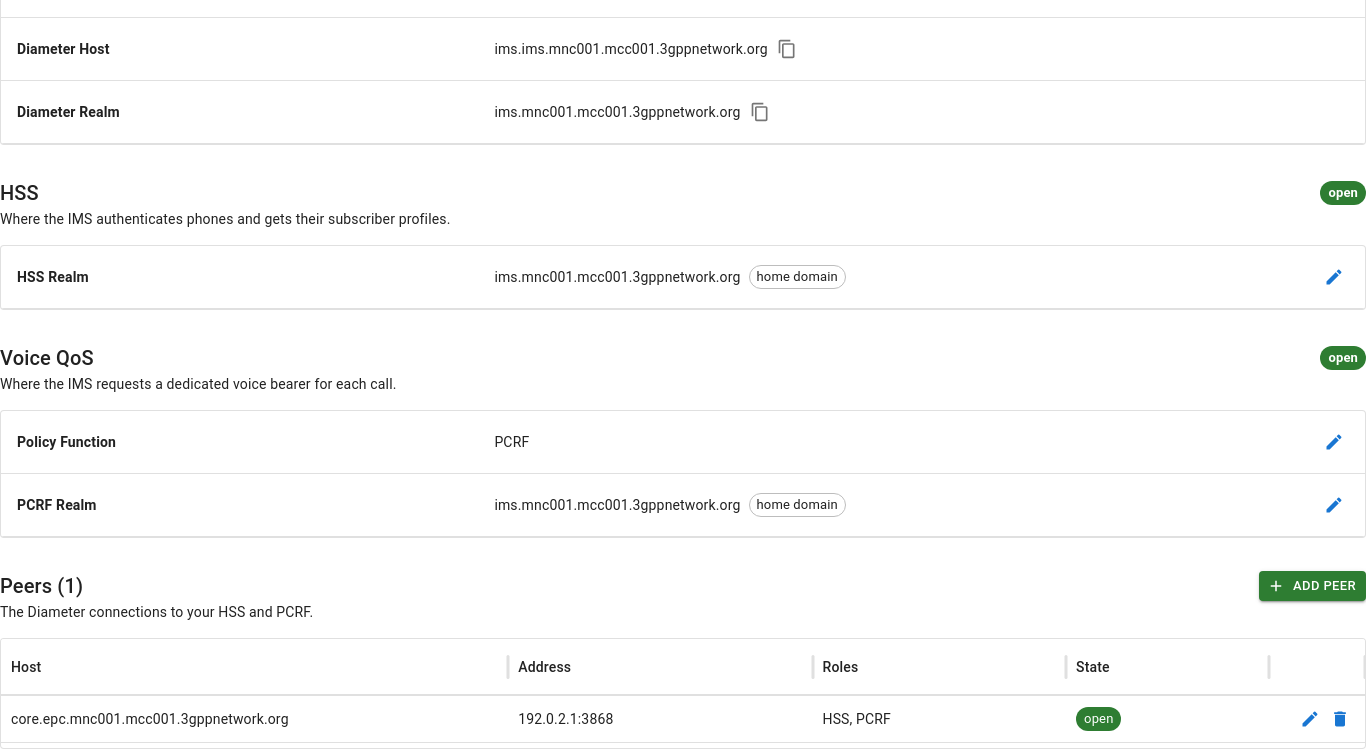
Test: Cores › shows why a peer cannot be deleted
(page scrolled)
Click the button named "Delete core.epc.mnc001.mcc001.3gppnetwork.org": (1340, 719) [1325,704,1355,734]
(page scrolled)
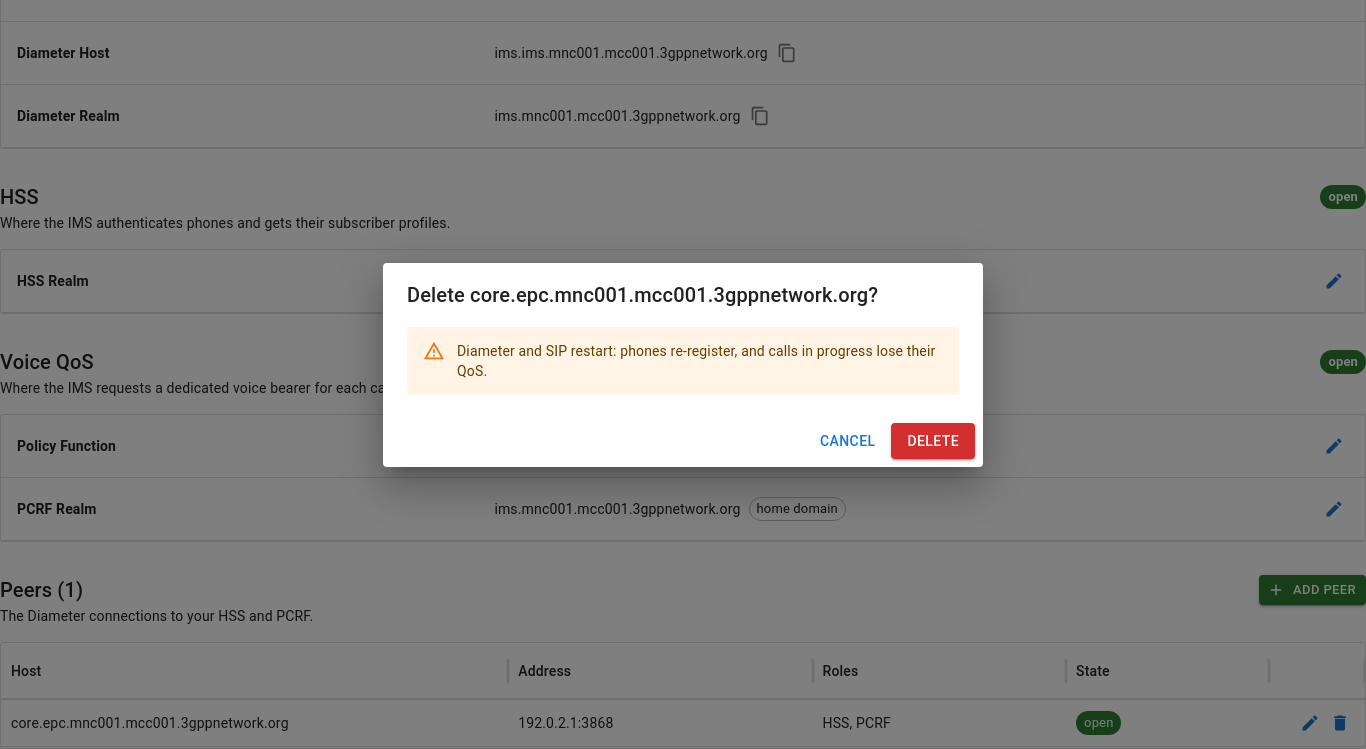
Click the button "Delete": (933, 441) [892,423,975,459]
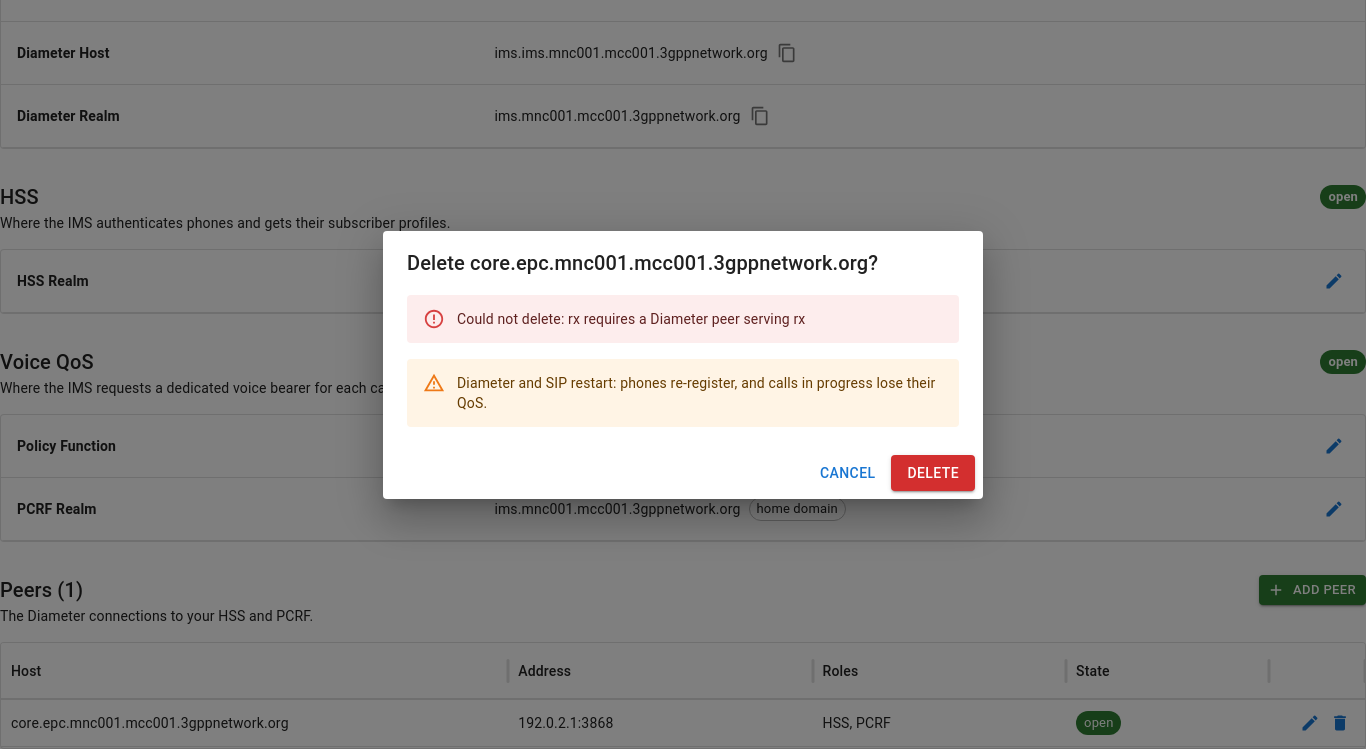
Now the dialog is shown, box [383,231,983,499]
Now the text "Could not delete: rx requires a Diameter peer serving rx" is shown, box [457,311,805,327]
